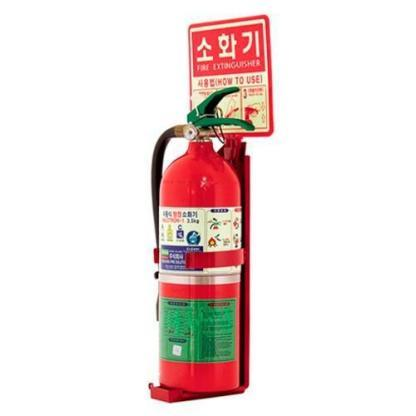Fire Extinguisher: (136, 81, 272, 401)
